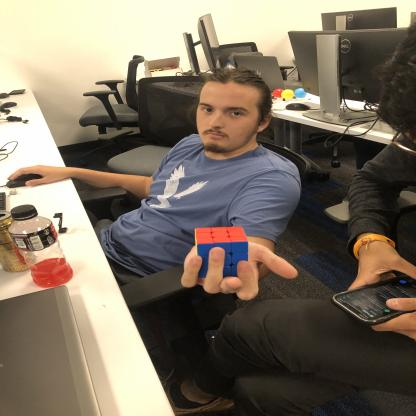SolvedCube: (194, 227, 248, 278)
